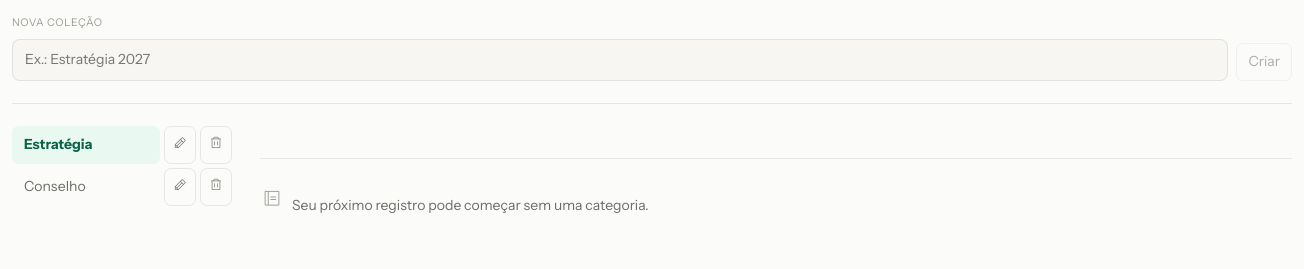
Scenario: StudioCollections › selects and filters collections, then creates, renames, and deletes without deleting documents
Click the button "Conselho": (86, 187) [12,168,160,206]
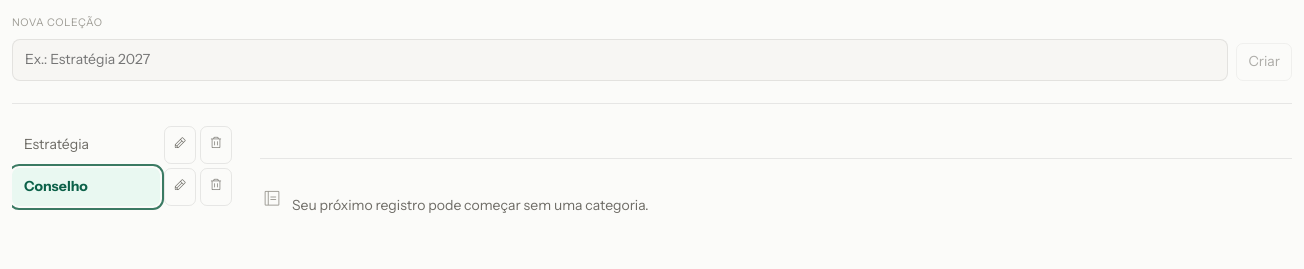
In the field labelled "Nova coleção": (620, 60) [12,39,1228,81], type "Direção"
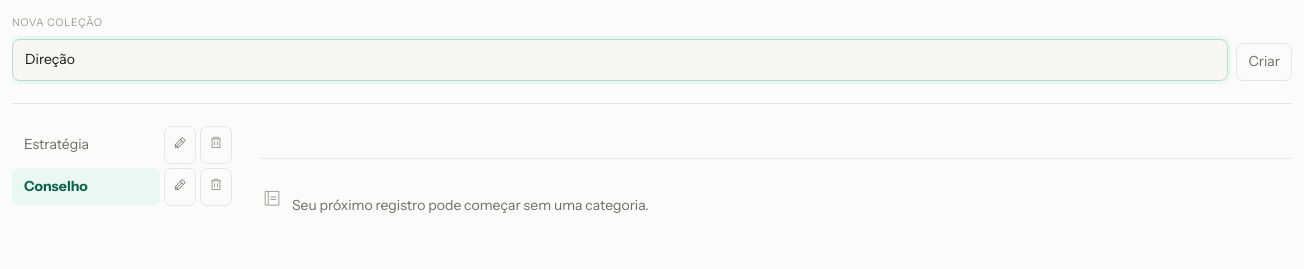
Click the button "Criar": (1264, 62) [1236,43,1292,81]
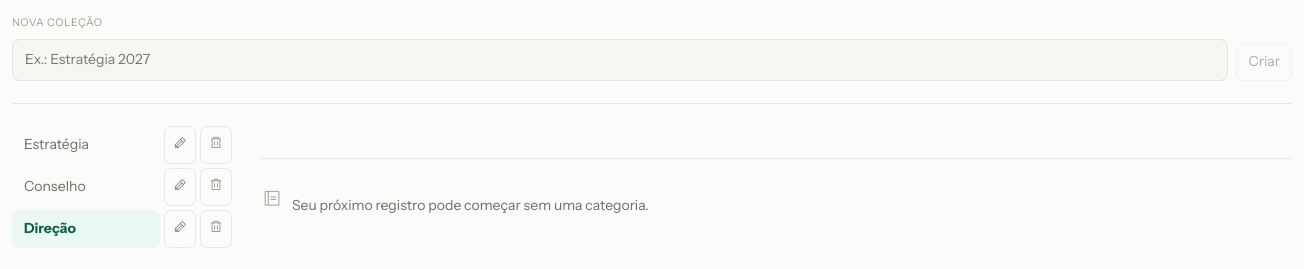
Click the button named "Renomear Direção": (180, 229) [164,210,196,248]
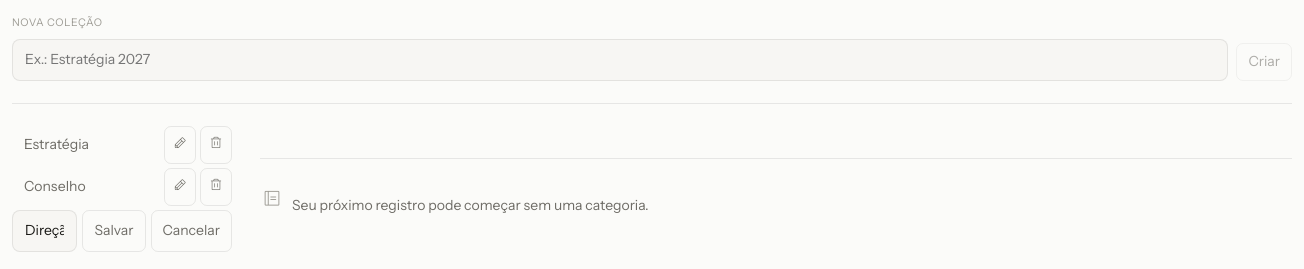
Replace the text in the field named "Nome de Direção" with "Horizonte": (45, 231) [12,210,77,252]
Click the button "Salvar": (114, 231) [82,210,146,252]
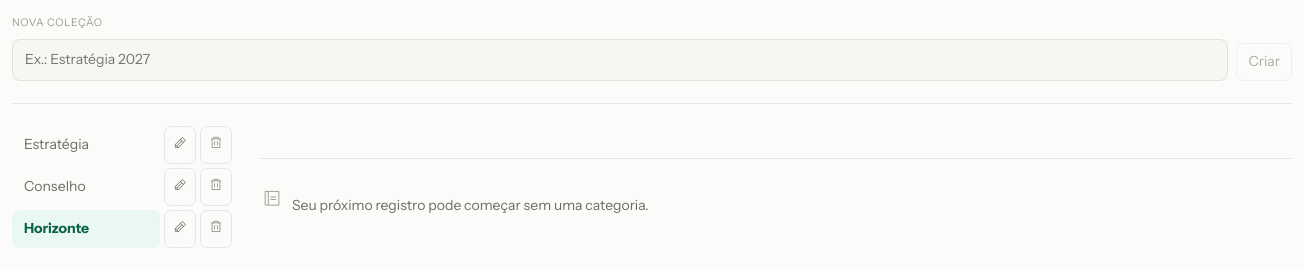
Result: the button "Horizonte" is shown at [12,210,160,248]
Click the button named "Excluir Horizonte": (216, 229) [200,210,232,248]
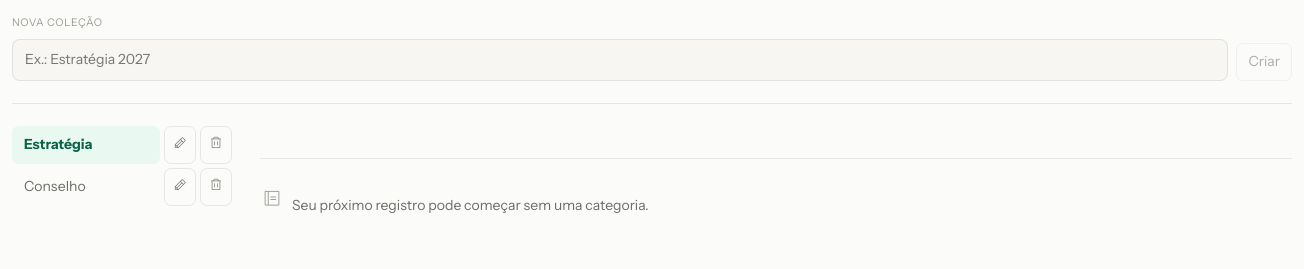
Result: the button "Horizonte" is gone
